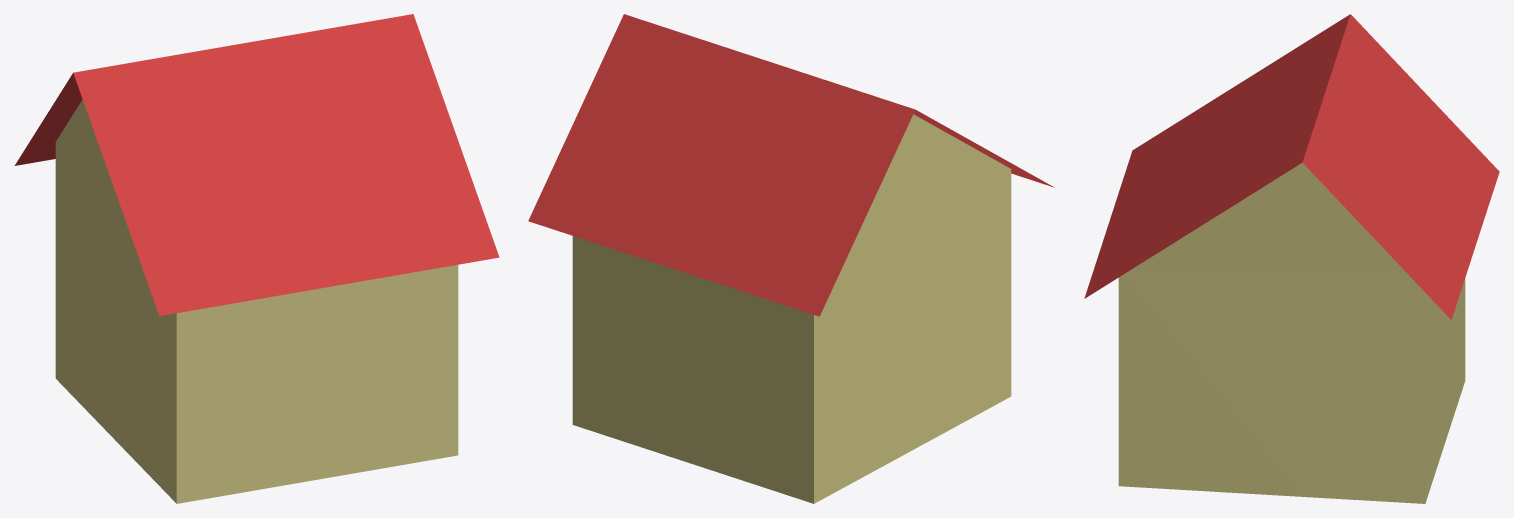
The picture shows the model from 3 angles, left to right: view 1: azimuth 30°, elevation 25°; view 2: azimuth 150°, elevation 25°; view 3: azimuth 270°, elevation 25°; orthographic projection. The views are drawn at different scales.
Bounding box in the file's own units: 13.13 × 13.57 × 12.52.
